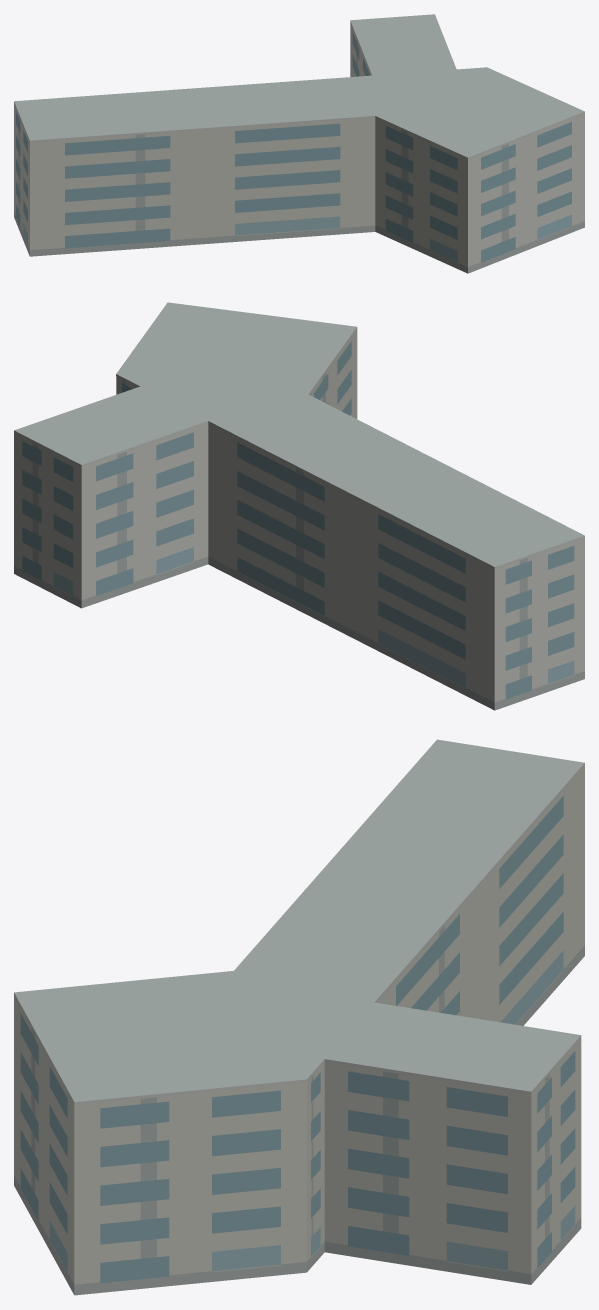
The model's file is residential-f4f5178a-720b-4e39-a1cd-d389c44bcc26.glb.
The picture shows the model from 3 angles, top to bottom: view 1: azimuth 30°, elevation 25°; view 2: azimuth 150°, elevation 25°; view 3: azimuth 270°, elevation 25°; orthographic projection. The views are drawn at different scales.
Visible parts, largest first — view 1: residential-f4f5178a-720b-4e39-a1cd-d389c44bcc26.tmp; view 2: residential-f4f5178a-720b-4e39-a1cd-d389c44bcc26.tmp; view 3: residential-f4f5178a-720b-4e39-a1cd-d389c44bcc26.tmp.
Boxes of the visible parts, bbox=[...] form: residential-f4f5178a-720b-4e39-a1cd-d389c44bcc26.tmp: bbox=[14, 14, 584, 273]; residential-f4f5178a-720b-4e39-a1cd-d389c44bcc26.tmp: bbox=[14, 302, 584, 710]; residential-f4f5178a-720b-4e39-a1cd-d389c44bcc26.tmp: bbox=[14, 739, 584, 1295].
Size of the model in its own units: 61.4 by 15.25 by 40.84.
